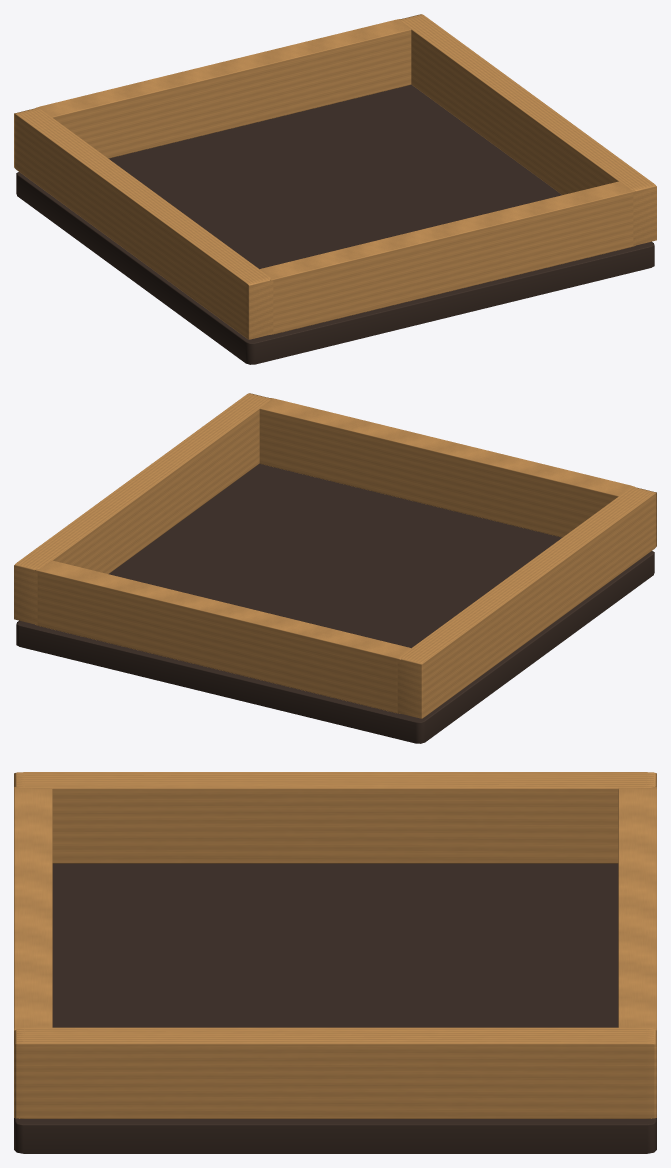
File: pit_2m.glb
The picture shows the model from 3 angles, top to bottom: view 1: azimuth 30°, elevation 25°; view 2: azimuth 150°, elevation 25°; view 3: azimuth 270°, elevation 25°; orthographic projection. The views are drawn at different scales.
Parts seen in each view (by area): view 1: Dark pit floor, Pit edge.001, Pit edge.003, Pit edge, Pit edge.002; view 2: Dark pit floor, Pit edge.003, Pit edge.001, Pit edge, Pit edge.002; view 3: Dark pit floor, Pit edge.002, Pit edge, Pit edge.001, Pit edge.003.
Part boxes in pixels (box(x1,y1,x2,y2)): Dark pit floor: box(16, 84, 654, 364); Pit edge.001: box(260, 181, 635, 334); Pit edge.003: box(35, 19, 411, 158); Pit edge: box(14, 108, 273, 339); Pit edge.002: box(400, 14, 656, 245); Dark pit floor: box(16, 463, 654, 743); Pit edge.003: box(35, 560, 410, 713); Pit edge.001: box(259, 398, 635, 537); Pit edge: box(397, 487, 656, 718); Pit edge.002: box(14, 393, 270, 624); Dark pit floor: box(14, 863, 656, 1153); Pit edge.002: box(14, 1027, 656, 1118); Pit edge: box(14, 772, 656, 863); Pit edge.001: box(14, 786, 52, 1030); Pit edge.003: box(618, 786, 656, 1030).
Size of the model in its own units: 2 by 0.38 by 2.
2 materials, 1 textured.
